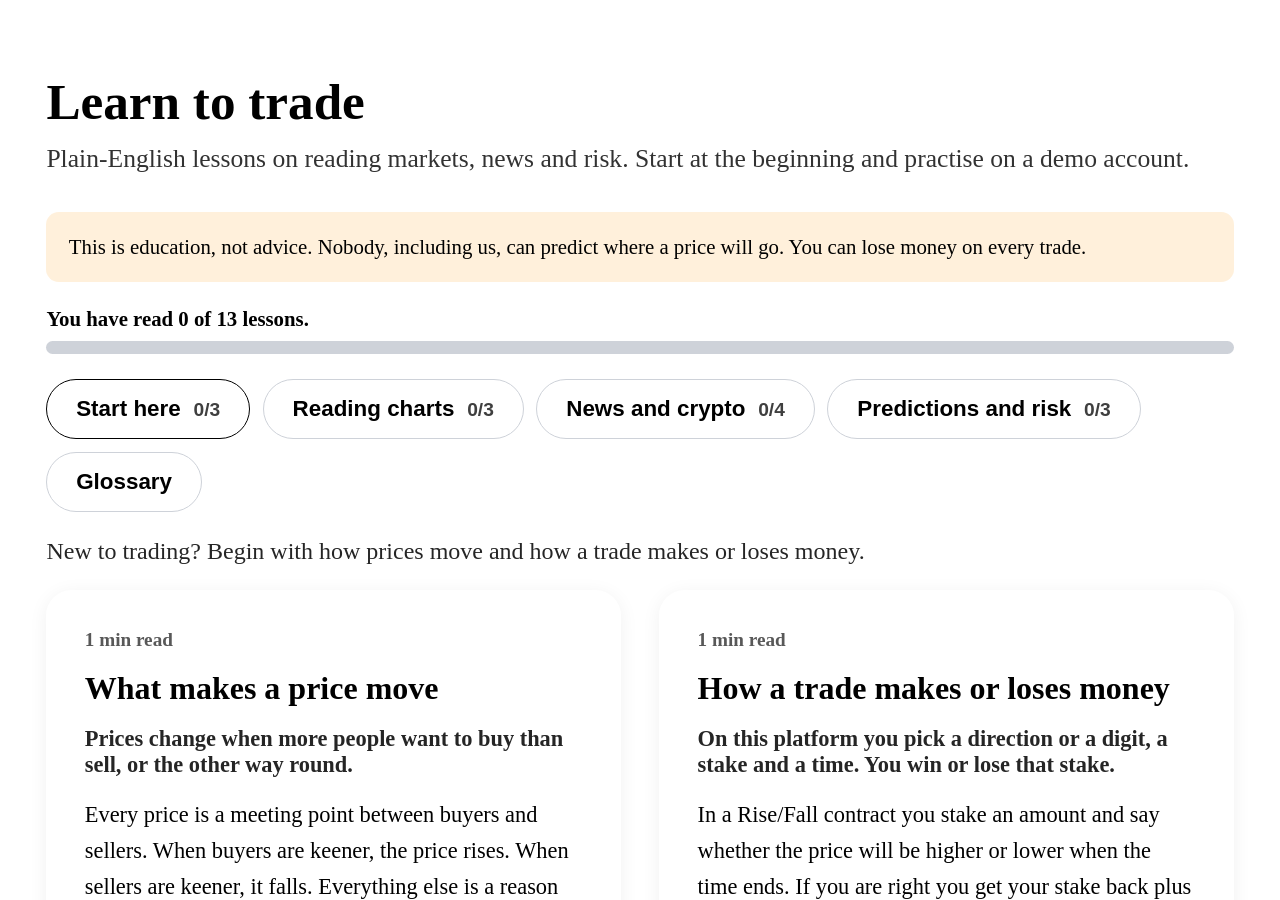
Test: <Learn /> › switches topics
What coordinates should you click on to do the following:
click the tab with test id "dt_learn_tab_charts"
I would click on:
 (393, 409)
Its box is [263,379,524,439].
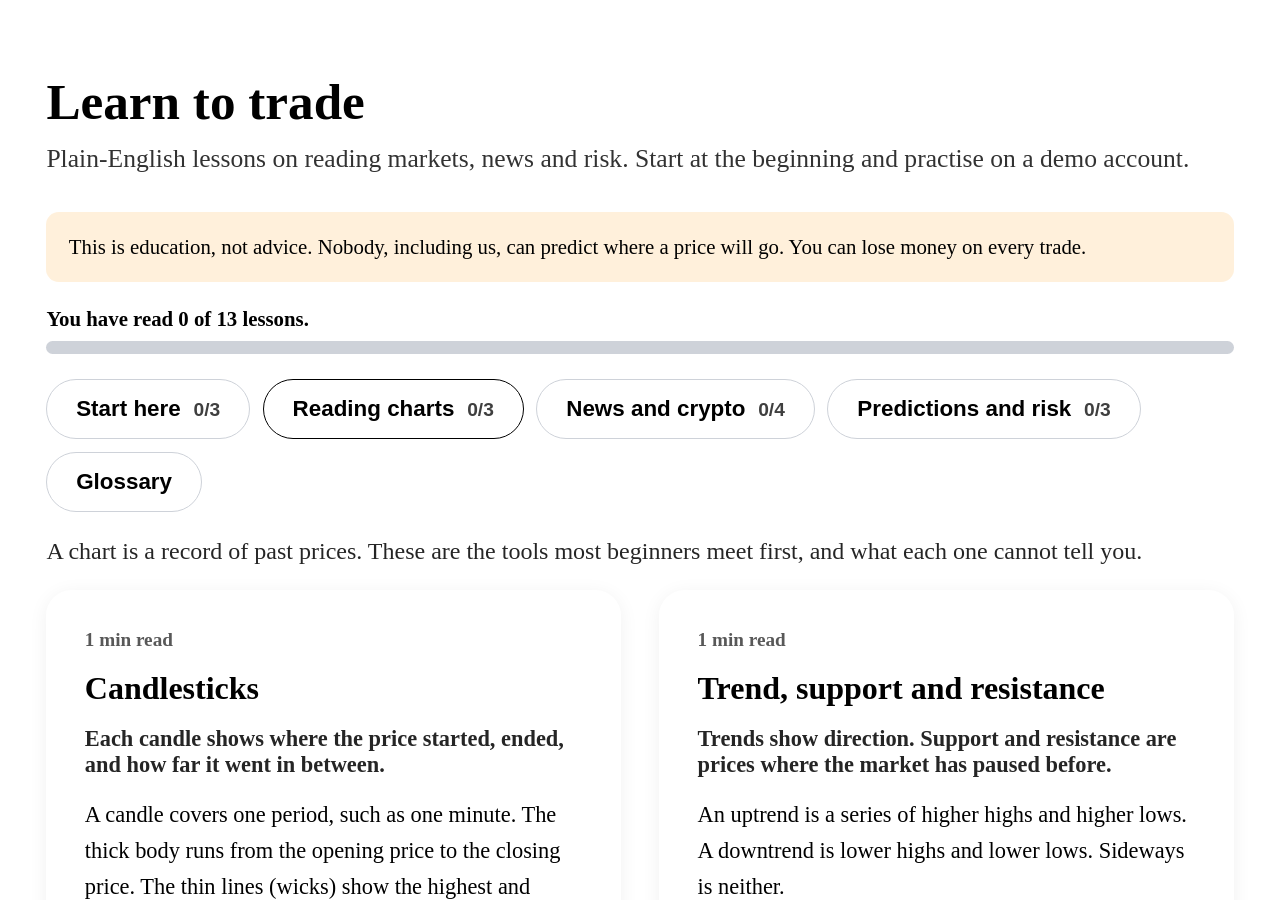
Now the tab with test id "dt_learn_tab_charts" is selected, box [263,379,524,439]
What coordinates should you click on to do the following:
click the tab with test id "dt_learn_tab_news"
I would click on:
 (676, 409)
Its box is [536,379,815,439].
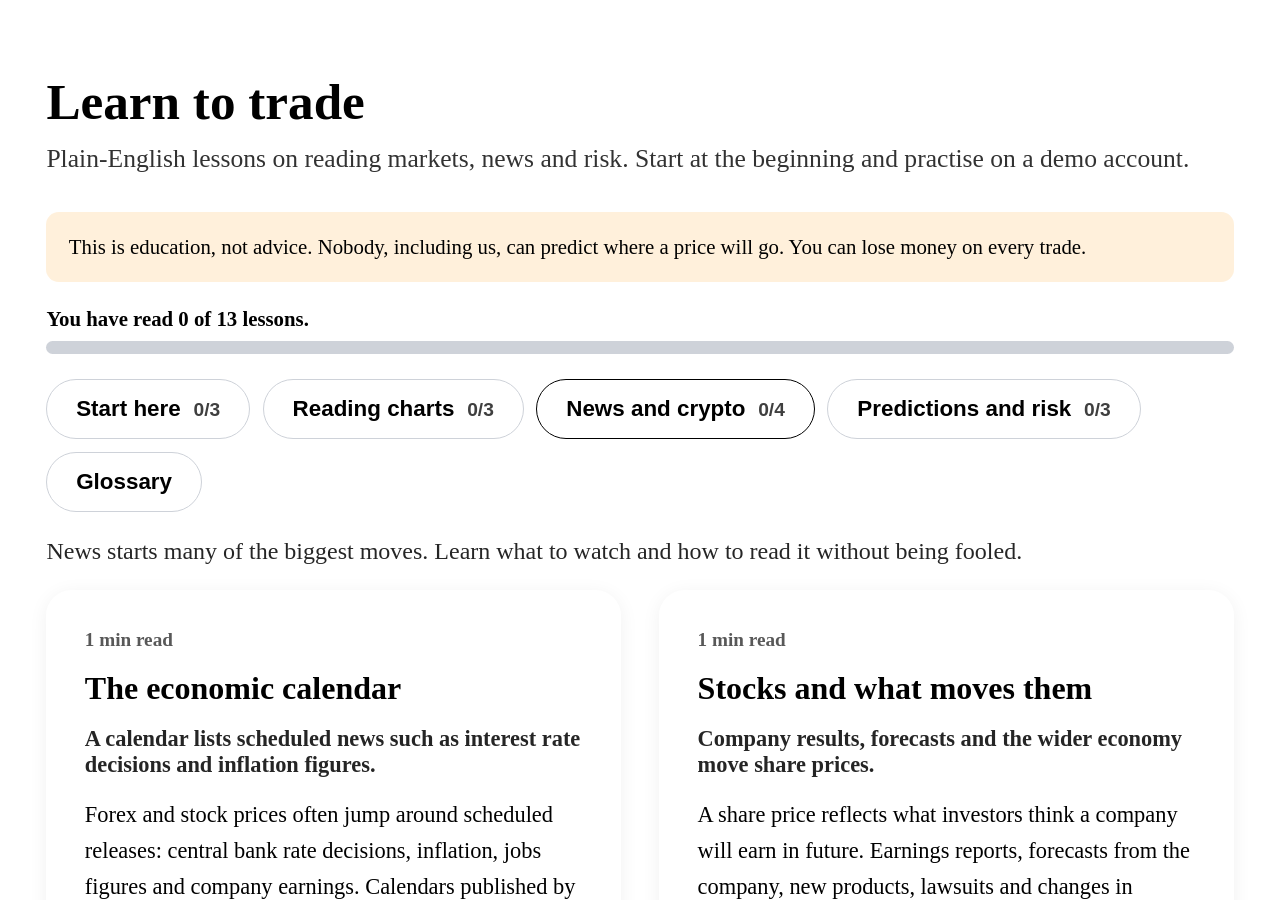
What coordinates should you click on to do the following:
click the tab with test id "dt_learn_tab_predictions"
I would click on:
 (984, 409)
Its box is [828,379,1141,439].
(page scrolled)
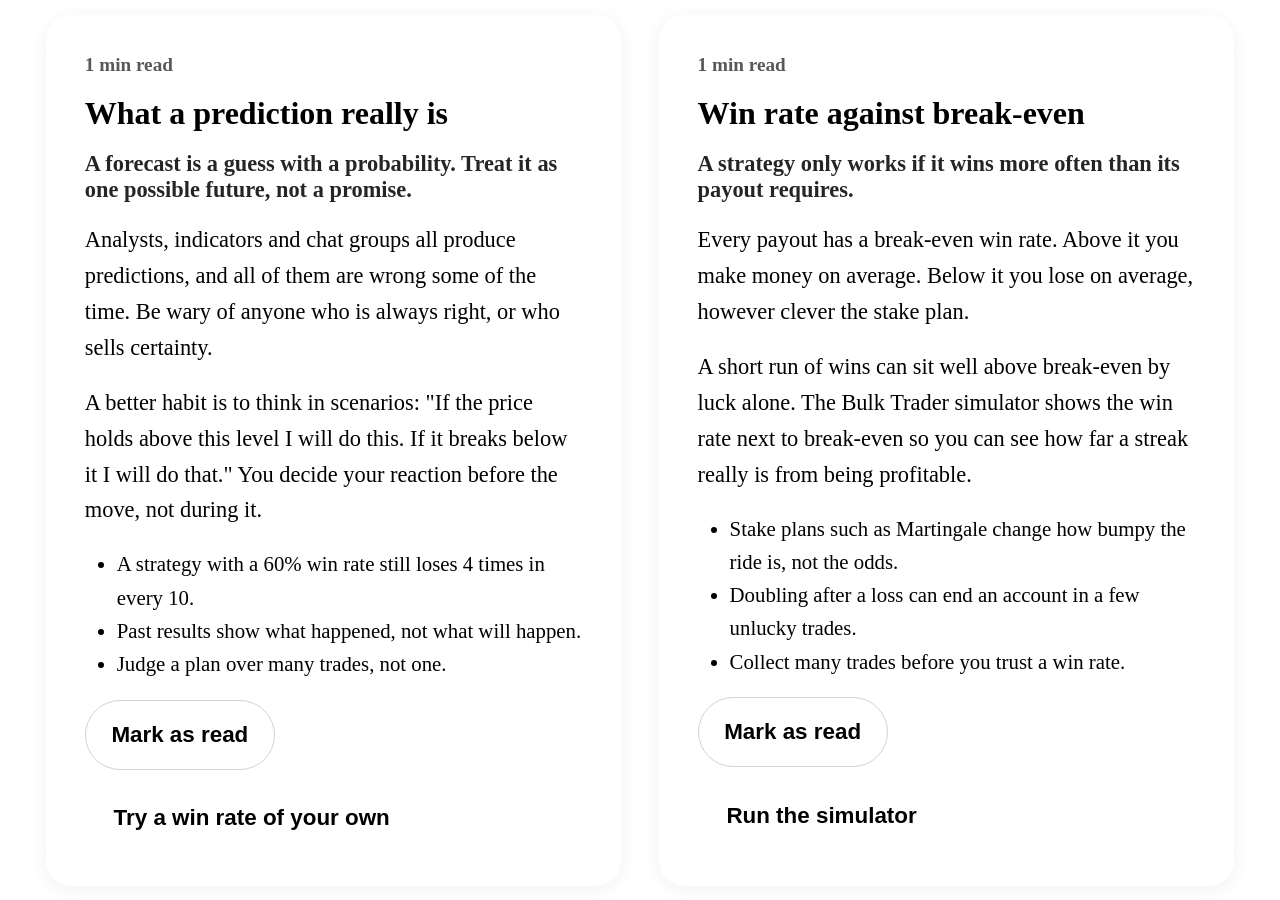
Now the element with test id "dt_learn_lesson_prediction_truth" is shown, box [46,15,621,886]
